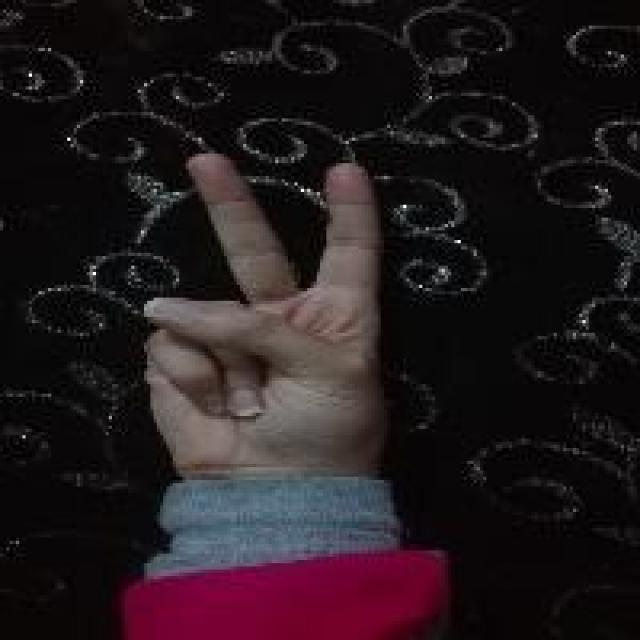V: (126, 146, 392, 478)
